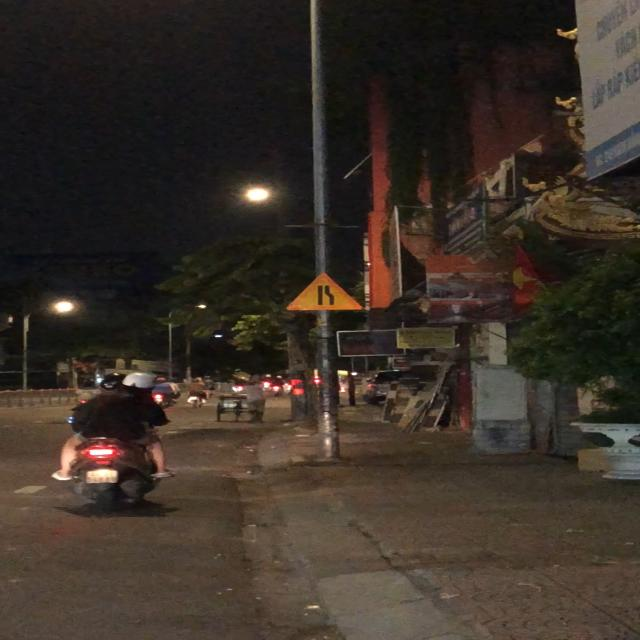Bien bao duong bi thu hep: (283, 272, 367, 312)
